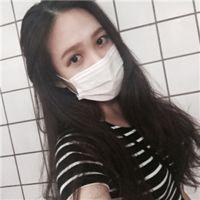OK: (56, 26, 125, 101)
